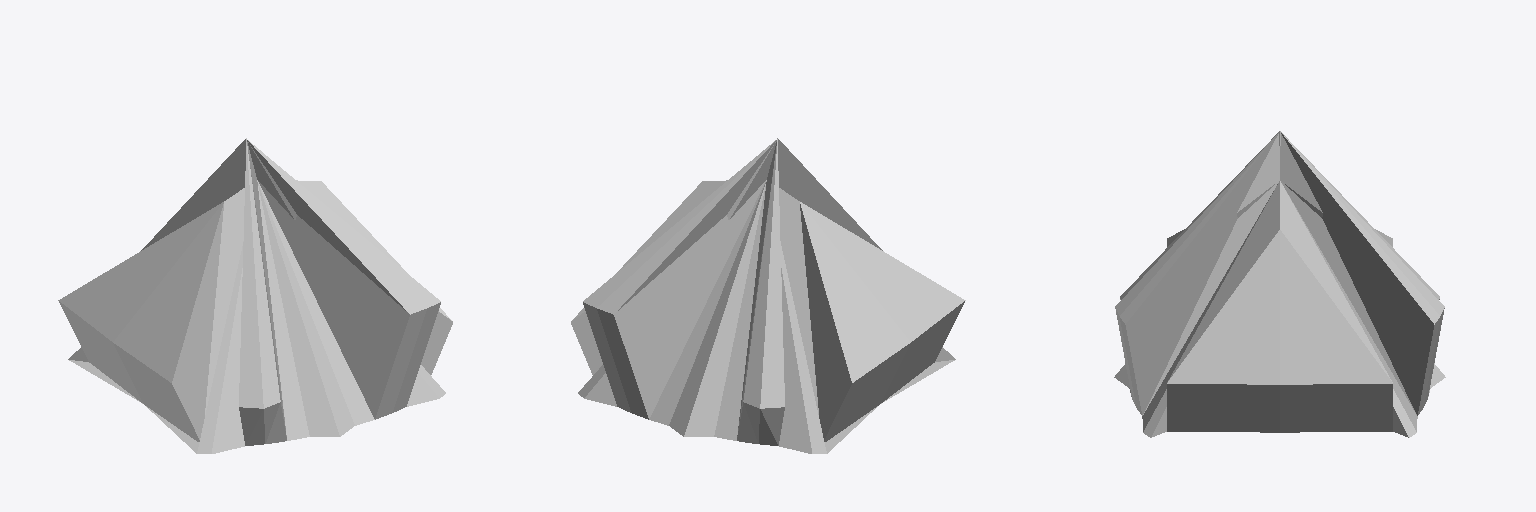
The model's file is toggle_cloak.obj.
The picture shows the model from 3 angles: view 1: azimuth 30°, elevation 25°; view 2: azimuth 150°, elevation 25°; view 3: azimuth 270°, elevation 25°; orthographic projection.
Visible parts, largest first — view 1: Cube.001_Cube.003; view 2: Cube.001_Cube.003; view 3: Cube.001_Cube.003.
Boxes of the visible parts, x1,y1,x2,y2 form: Cube.001_Cube.003: [58, 138, 452, 453]; Cube.001_Cube.003: [571, 138, 965, 453]; Cube.001_Cube.003: [1114, 131, 1445, 437].
Bounding box in the file's own units: 1.95 × 1.57 × 1.96.